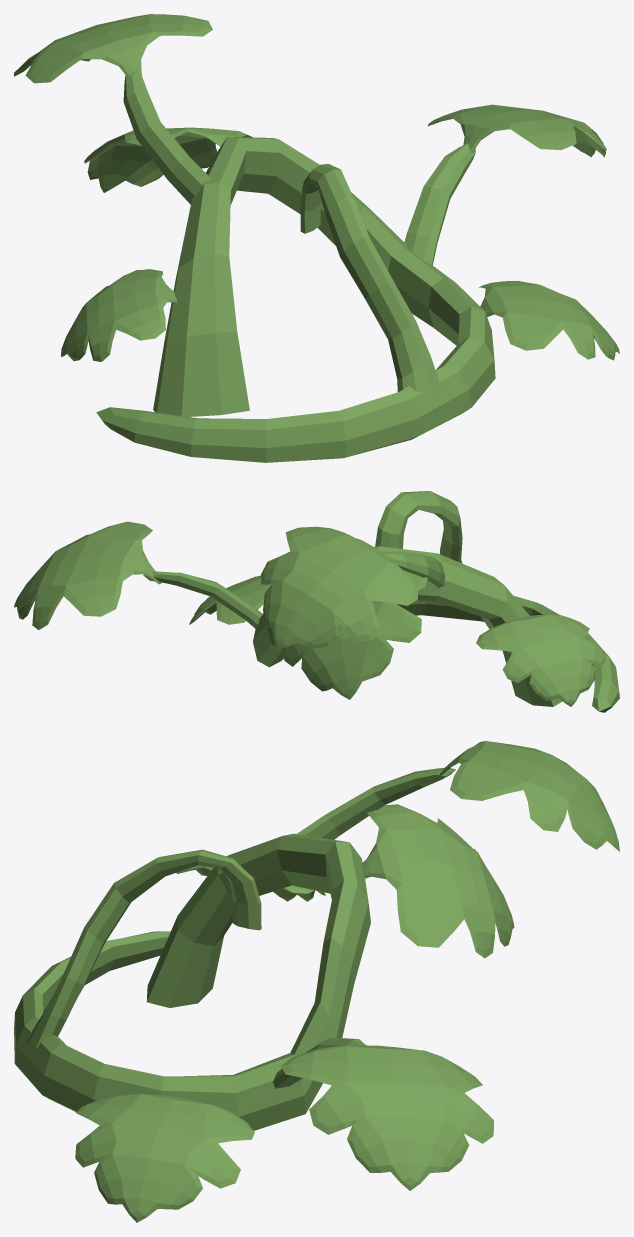
The model's file is Pumpkin_Harvested.glb.
The picture shows the model from 3 angles, top to bottom: view 1: azimuth 30°, elevation 25°; view 2: azimuth 150°, elevation 25°; view 3: azimuth 270°, elevation 25°; orthographic projection. The views are drawn at different scales.
Parts seen in each view (by area): view 1: Pumpkin_Harvested_Cylinder.008; view 2: Pumpkin_Harvested_Cylinder.008; view 3: Pumpkin_Harvested_Cylinder.008.
Part boxes in pixels (<box>): Pumpkin_Harvested_Cylinder.008: <box>14,14,619,462</box>; Pumpkin_Harvested_Cylinder.008: <box>14,491,619,712</box>; Pumpkin_Harvested_Cylinder.008: <box>14,741,619,1222</box>.
Bounding box in the file's own units: 1.29 × 0.59 × 1.08.
